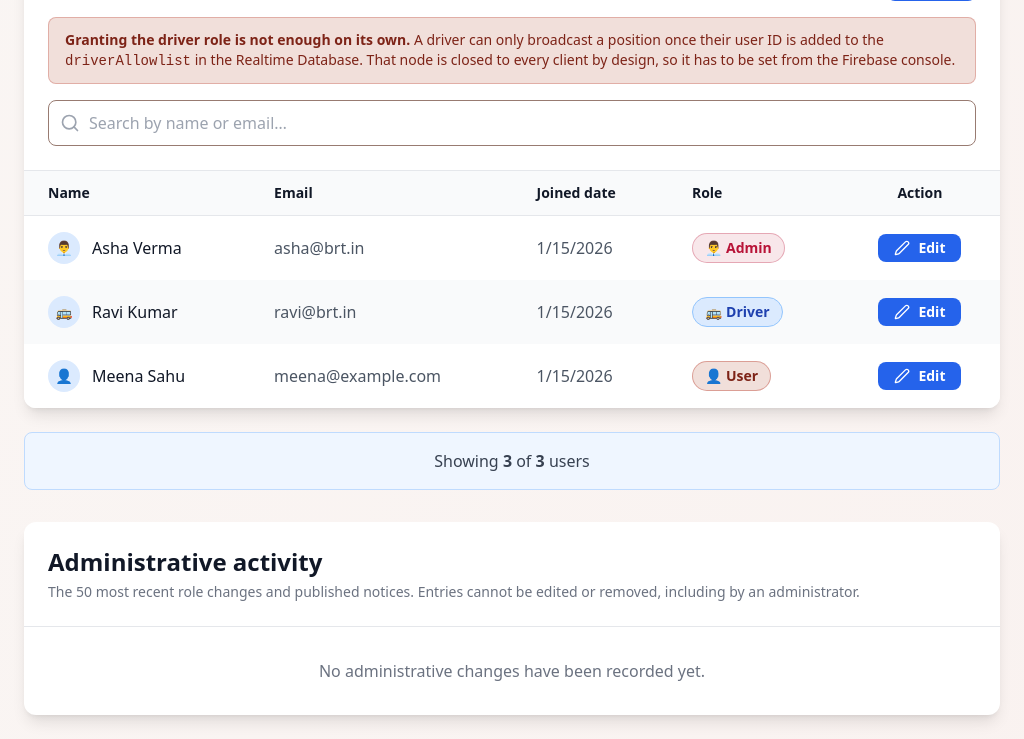
Test: changing somebody's role › writes the chosen role and reports success
(page scrolled)
Click the button "Edit" in the row of "Meena Sahu". click: (920, 376)
box: [878,362,962,390]
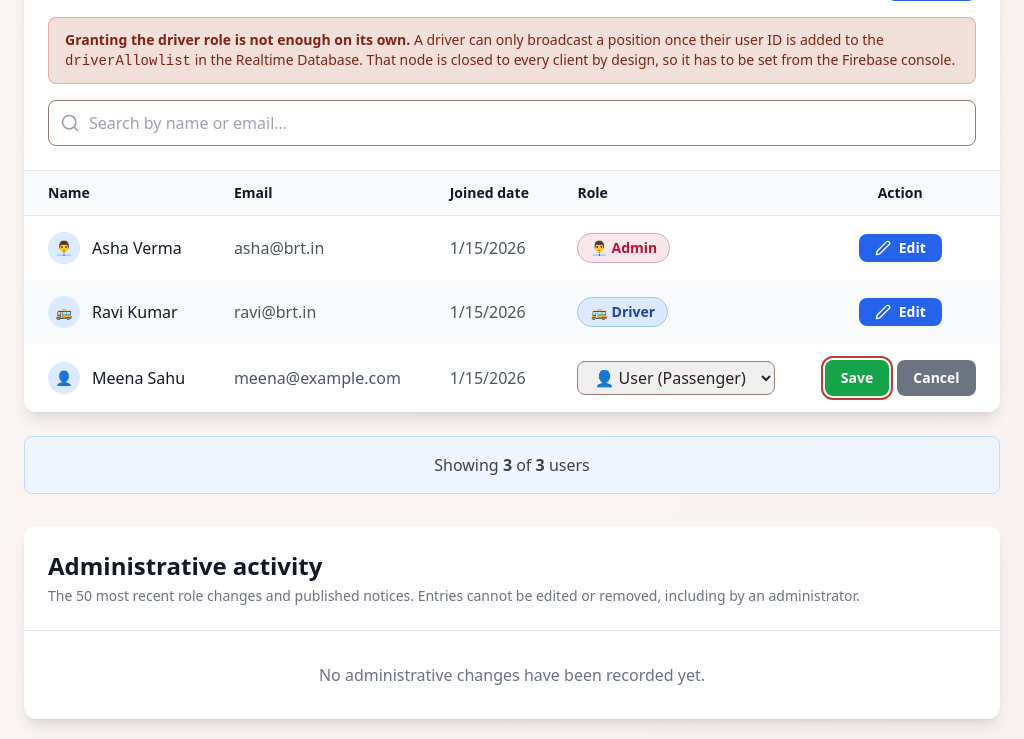
Select "🚌 Driver" in the dropdown named "Role for Meena Sahu". click: (676, 378)
box: [577,361,775,395]
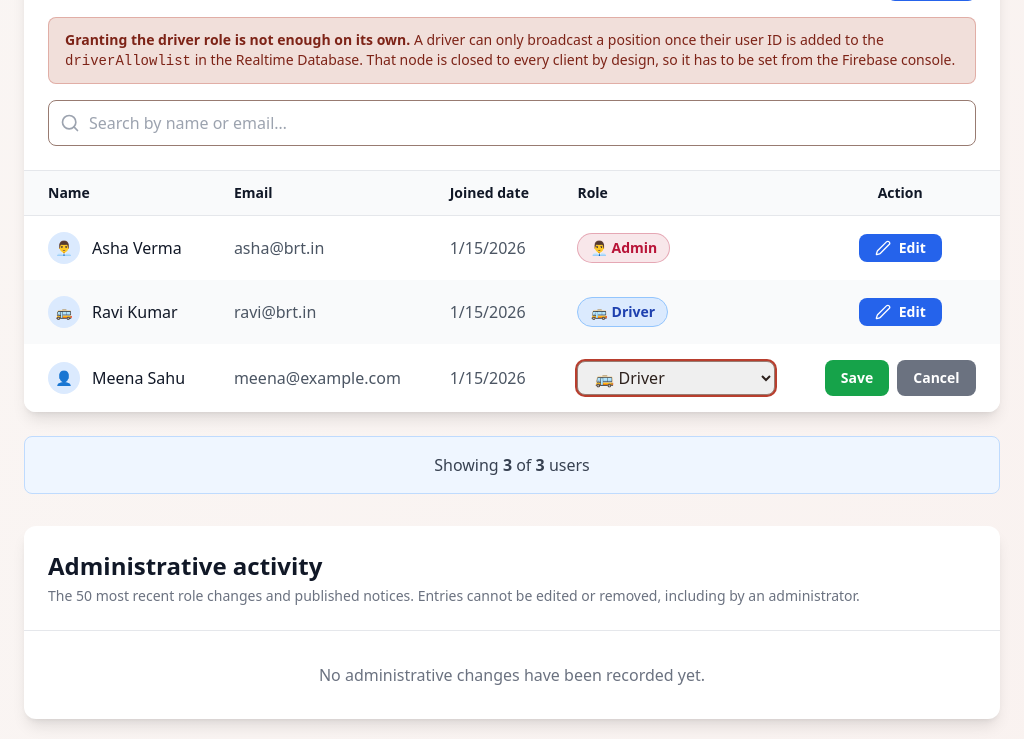
Click the button "Save". click: (857, 378)
box: [825,360,889,396]
(page scrolled)
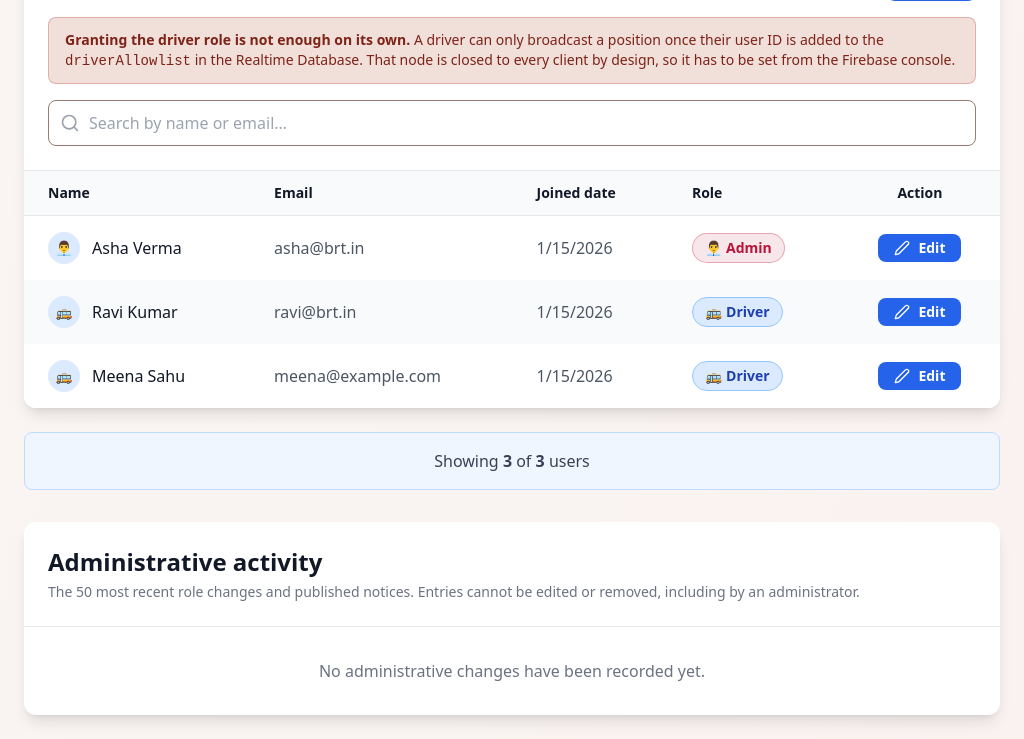
Check: the 2nd text "🚌 Driver" is shown, box [692,361,783,391]
